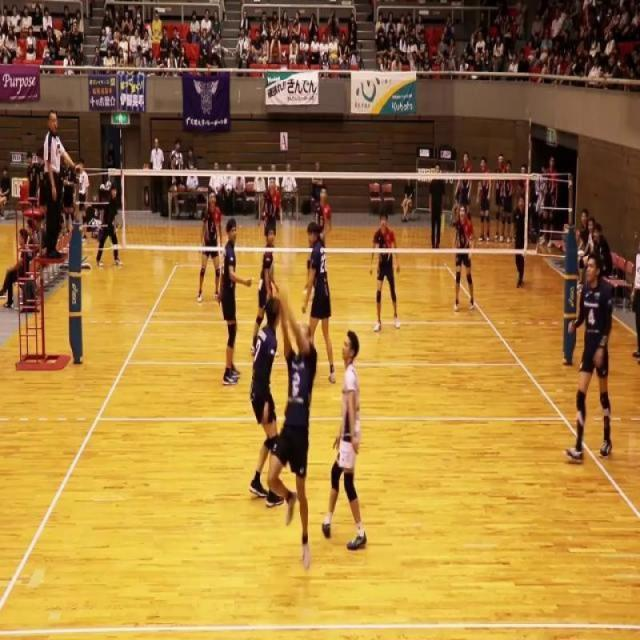volleyball: (281, 218, 298, 268)
